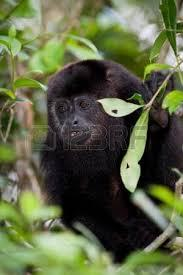monkey: (42, 59, 180, 262)
